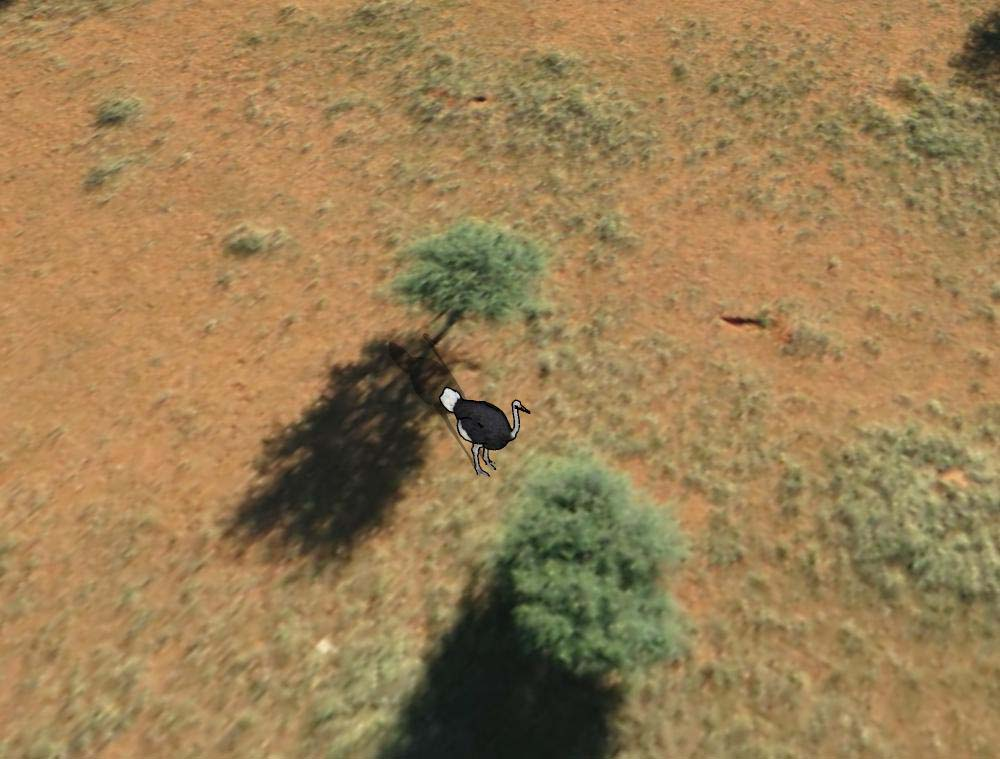ostrich: (438, 378, 534, 478)
